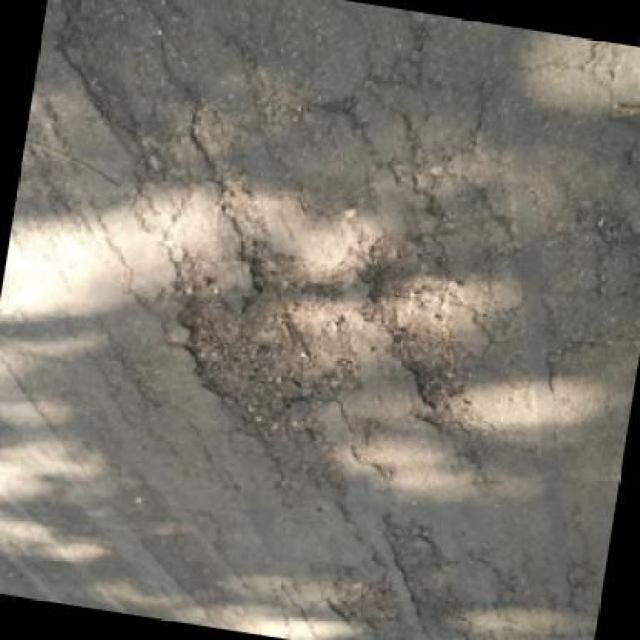pothole1: (141, 226, 368, 442), (336, 230, 489, 418), (320, 562, 403, 638)
